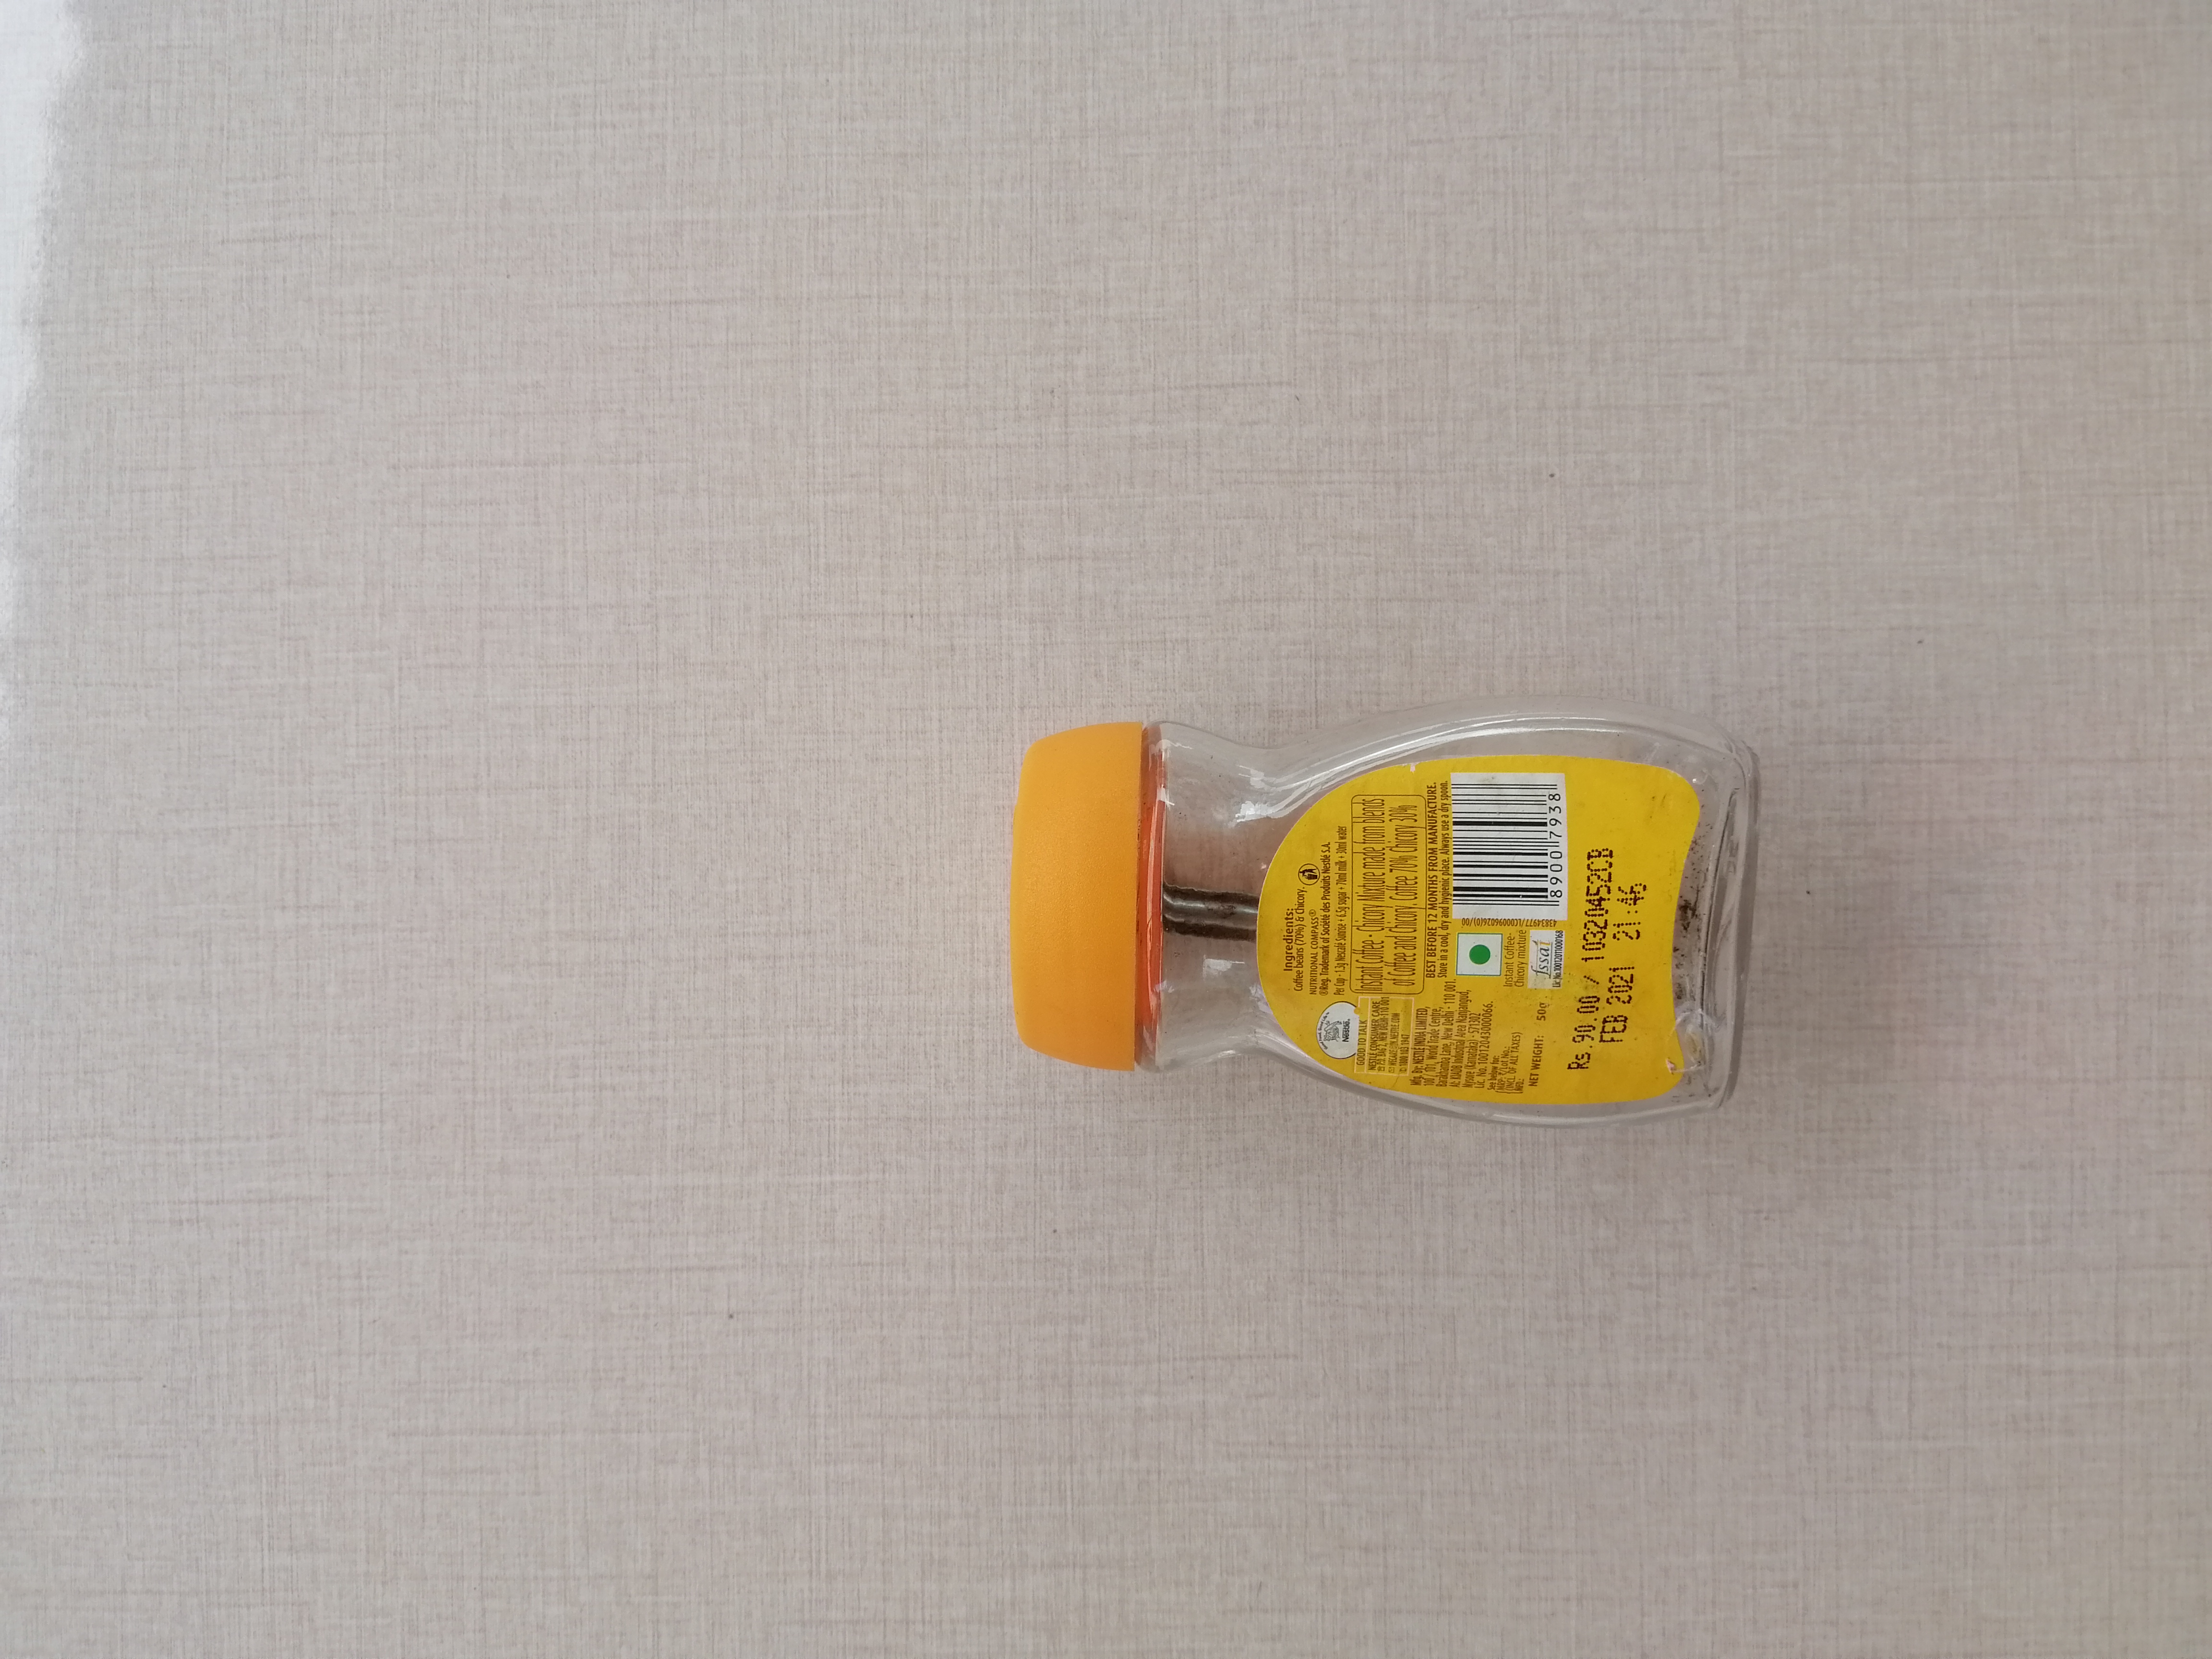nescafe_sunrise: (1010, 711, 1756, 1129)
